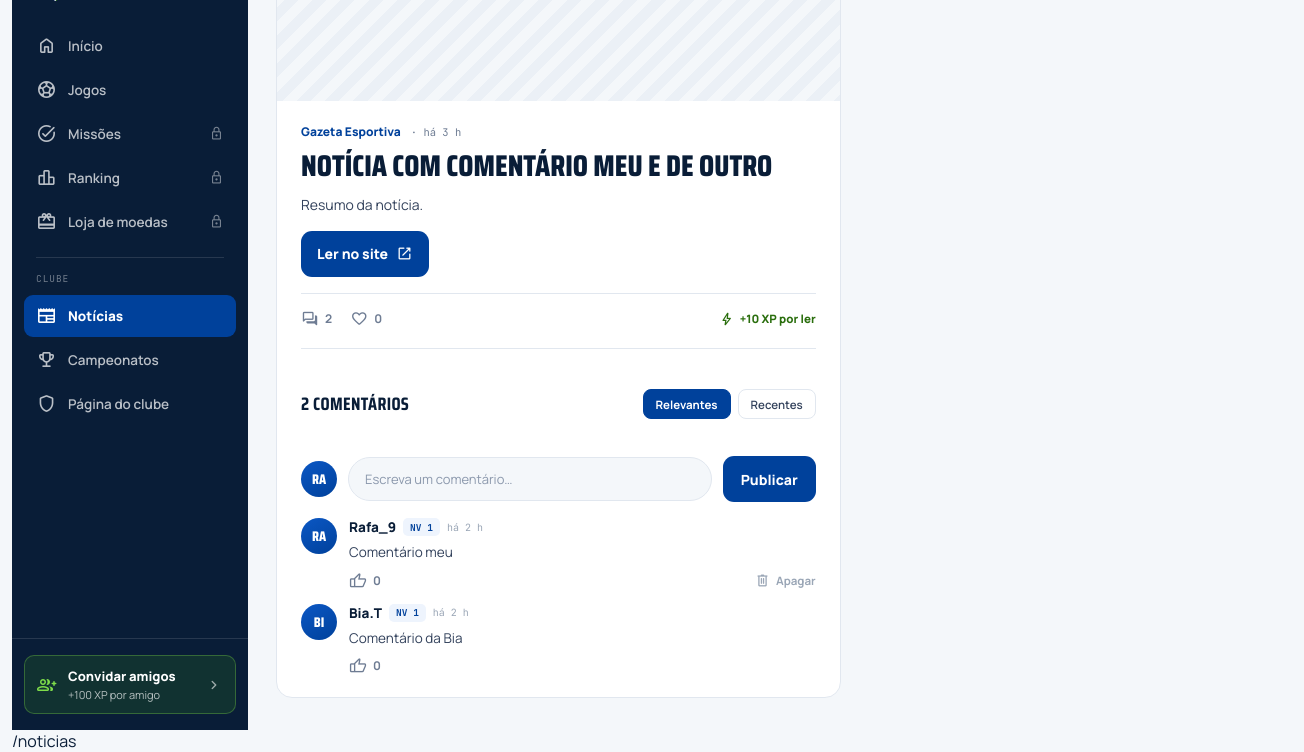
it: notícias do clube (W09) › apaga o próprio comentário (e só o próprio tem o botão)
The width and height of the screenshot is (1304, 752).
(page scrolled)
Click the button with aria-label "Apagar meu comentário: Comentário meu": click(785, 581) [754, 572, 816, 589]
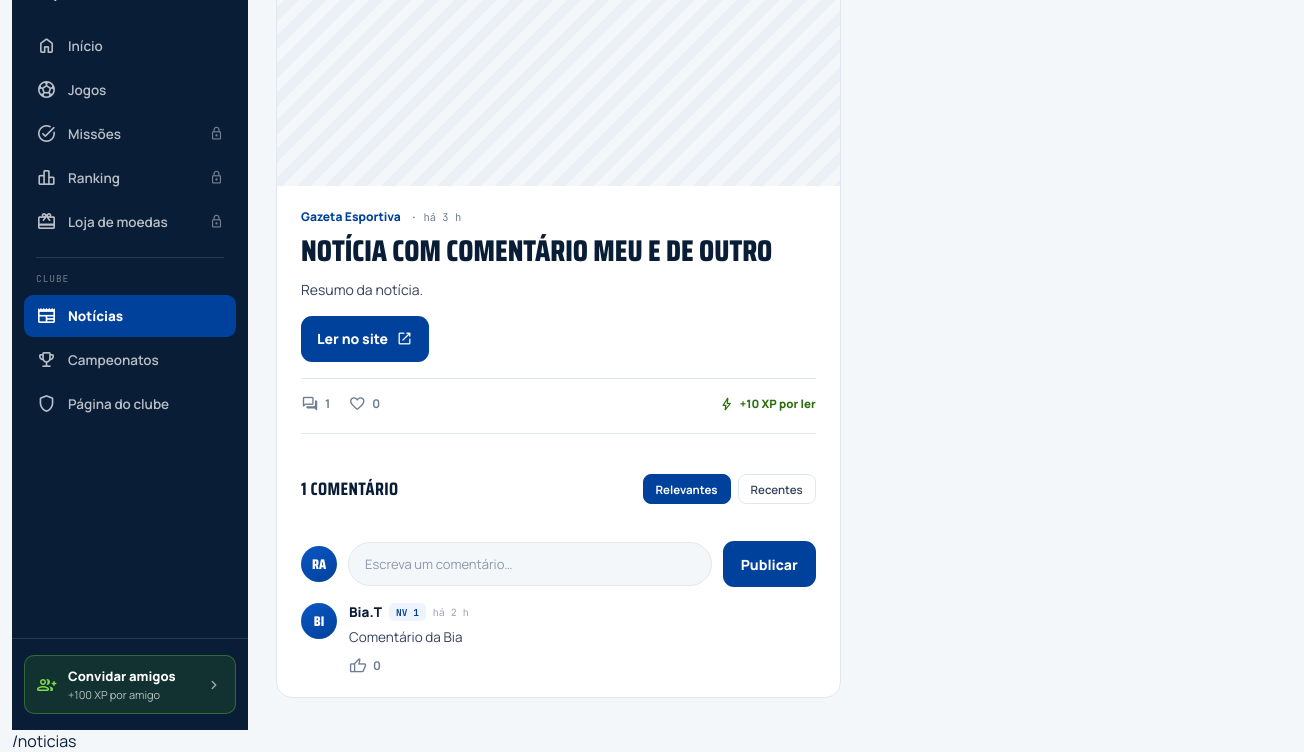
Now the heading "1 comentário" is shown, box [301, 475, 398, 503]
